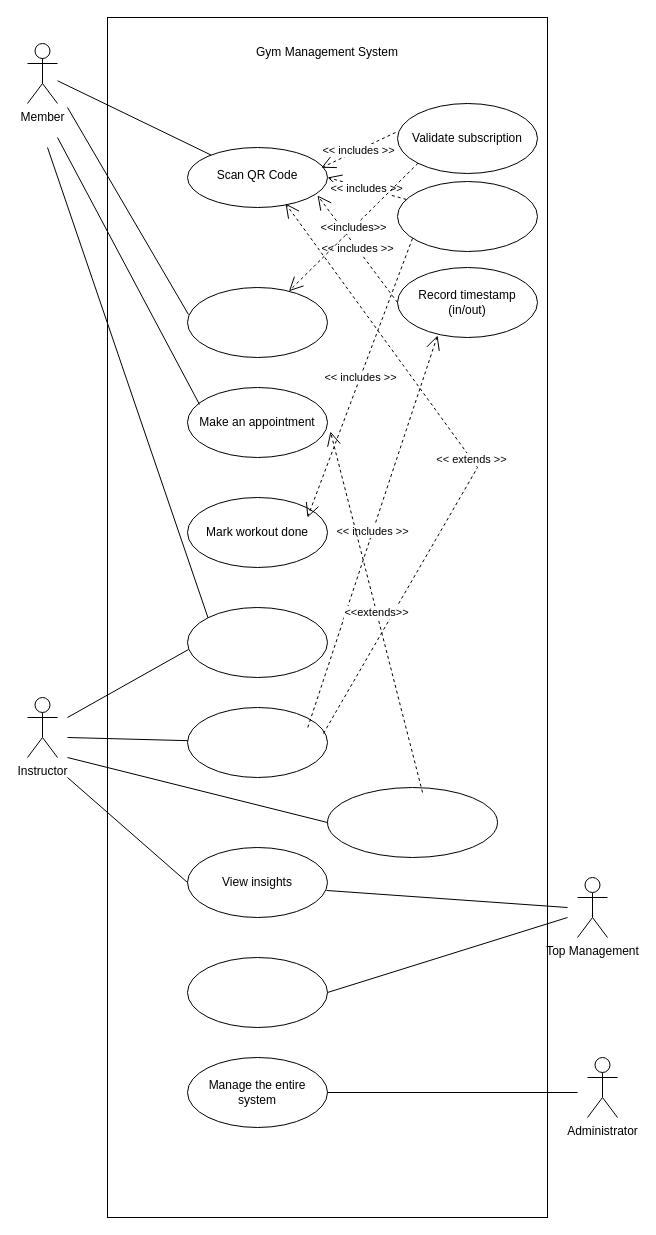
The diagram is 656 pixels wide and 1235 high, and some of its shapes have lost their labels. The shapes that lost their labels are listed below. From the top down, each one's centre as x and y in pixels, then its label:
the point at 467,216: Authenticate user (in/out)
the point at 257,322: Buy subscription
the point at 257,642: View/track progress
the point at 257,742: Enter/leave Gym
the point at 412,822: Change/modify workout schedule
the point at 257,992: Access detailed reports
